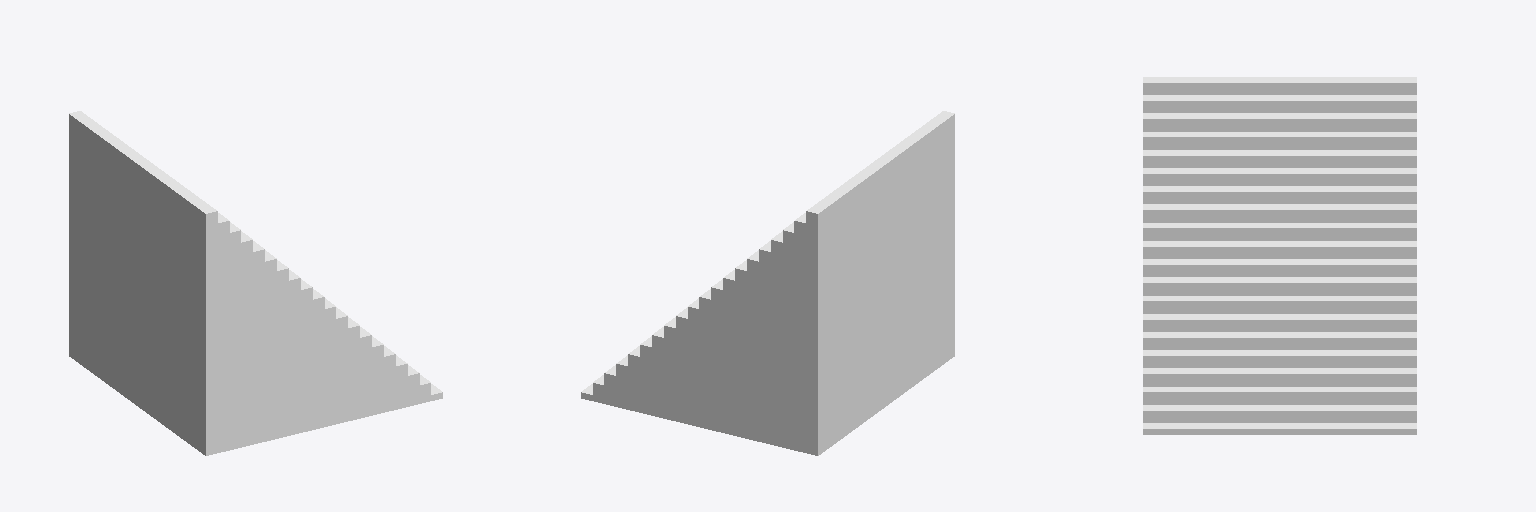
File: block1.2.obj
The picture shows the model from 3 angles: view 1: azimuth 30°, elevation 25°; view 2: azimuth 150°, elevation 25°; view 3: azimuth 270°, elevation 25°; orthographic projection.
Parts seen in each view (by area): view 1: object 1; view 2: object 1; view 3: object 1.
Boxes of the visible parts, x1,y1,x2,y2 form: object 1: [69, 111, 442, 455]; object 1: [581, 111, 954, 455]; object 1: [1143, 77, 1416, 434].
Bounding box in the file's own units: 4 × 3.9 × 4.